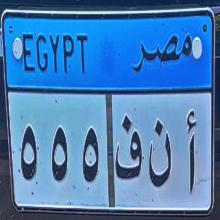5: (49, 124, 71, 184), (80, 123, 100, 186), (20, 122, 40, 185)
alif: (180, 98, 202, 202)
faa: (115, 114, 143, 185)
noon: (146, 118, 174, 195)
